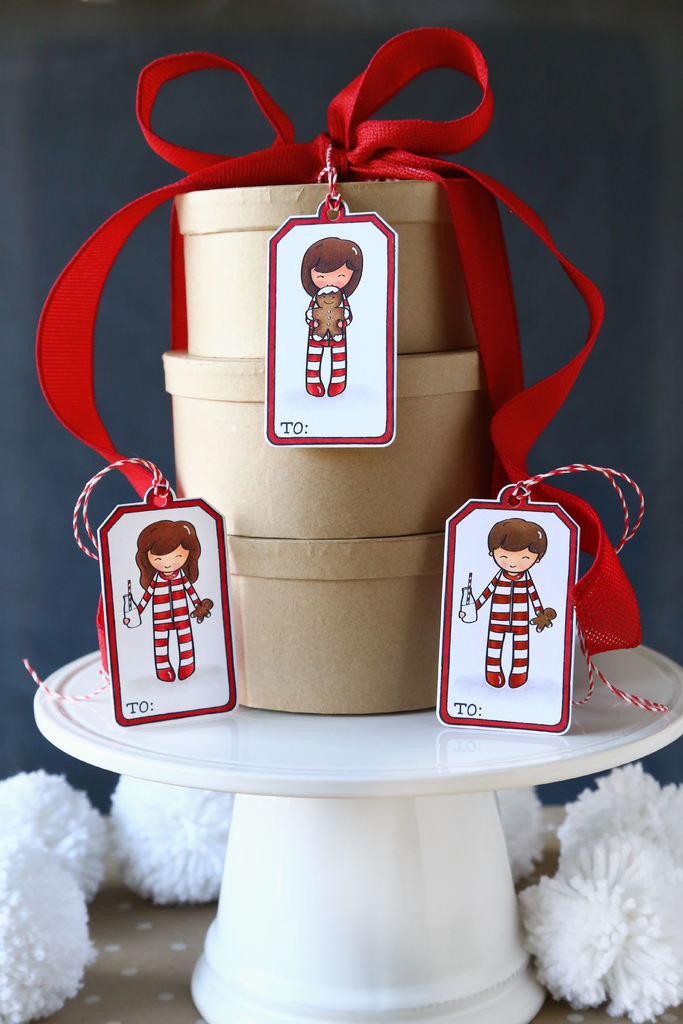cake: (157, 172, 486, 714)
